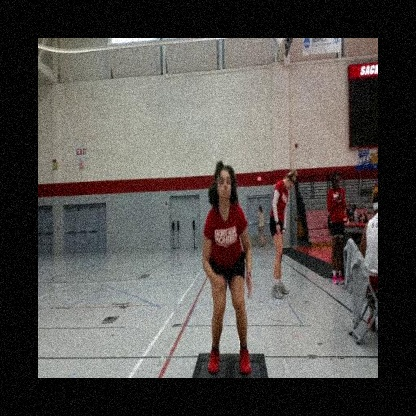lateral_flexion_right: (200, 158, 254, 378)
stance_width_normal: (201, 197, 254, 378)
